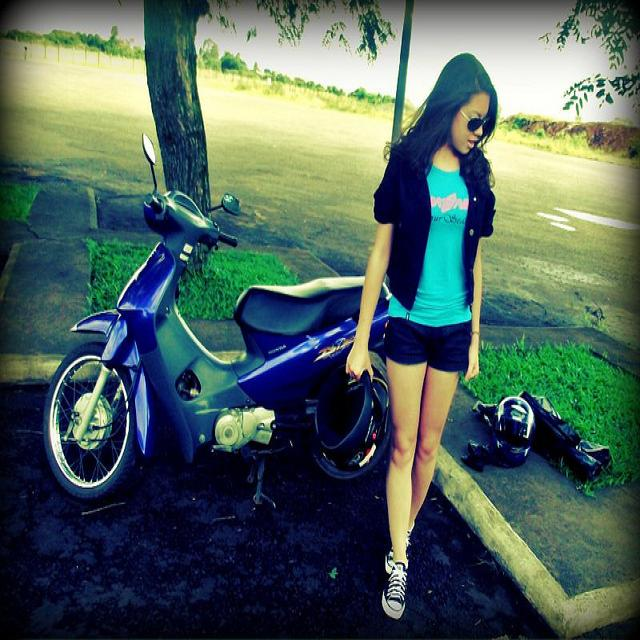motor: (40, 130, 389, 507)
